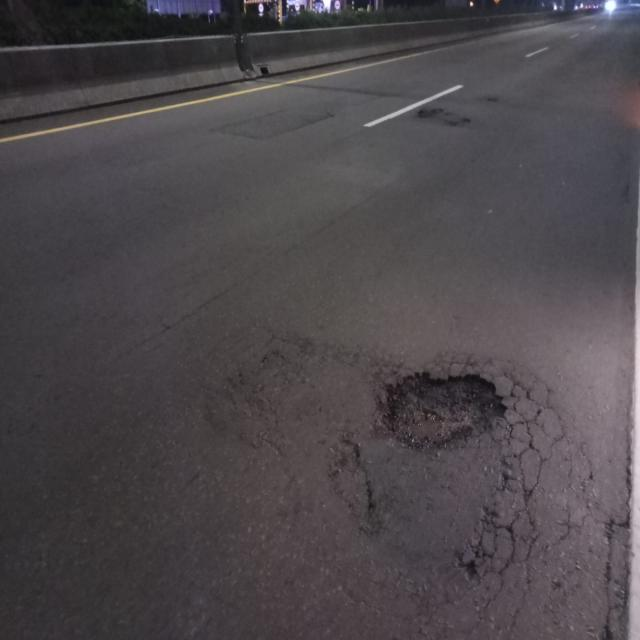Buraco: (372, 368, 514, 454), (412, 106, 448, 121)
